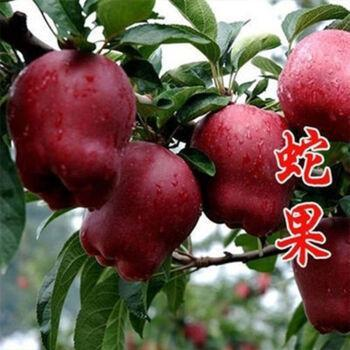apple: (1, 49, 137, 214), (75, 140, 201, 282), (192, 106, 294, 236), (276, 23, 349, 139)
